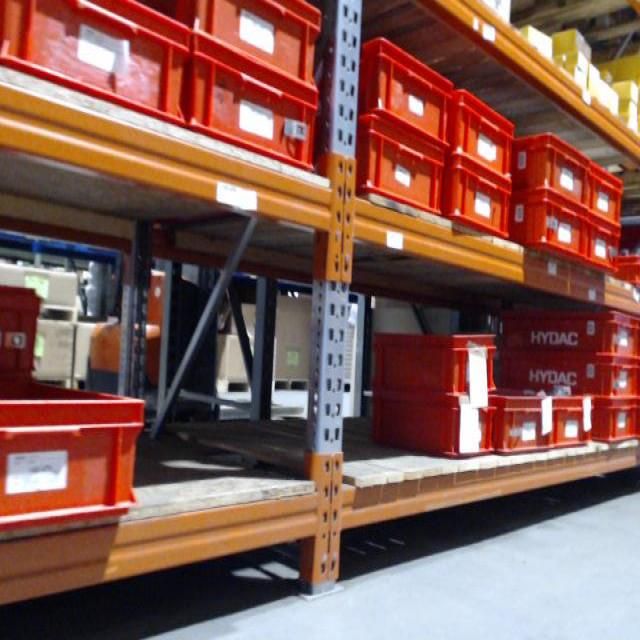pallet: (22, 300, 86, 330), (202, 376, 257, 399), (264, 372, 315, 394), (72, 377, 105, 400)
pallet_truck: (80, 242, 232, 432)
small_load_carrier: (2, 3, 194, 129), (2, 388, 155, 532), (184, 53, 326, 185), (334, 40, 450, 151), (190, 5, 321, 95), (334, 112, 443, 218), (369, 389, 498, 470), (369, 325, 504, 389), (496, 312, 640, 363), (452, 93, 518, 190), (439, 165, 513, 244), (514, 139, 592, 209), (513, 197, 591, 263), (500, 365, 639, 401), (492, 395, 552, 455), (544, 385, 592, 452), (4, 285, 37, 381), (587, 161, 627, 229), (581, 403, 640, 445), (584, 221, 618, 273), (612, 256, 640, 286)
